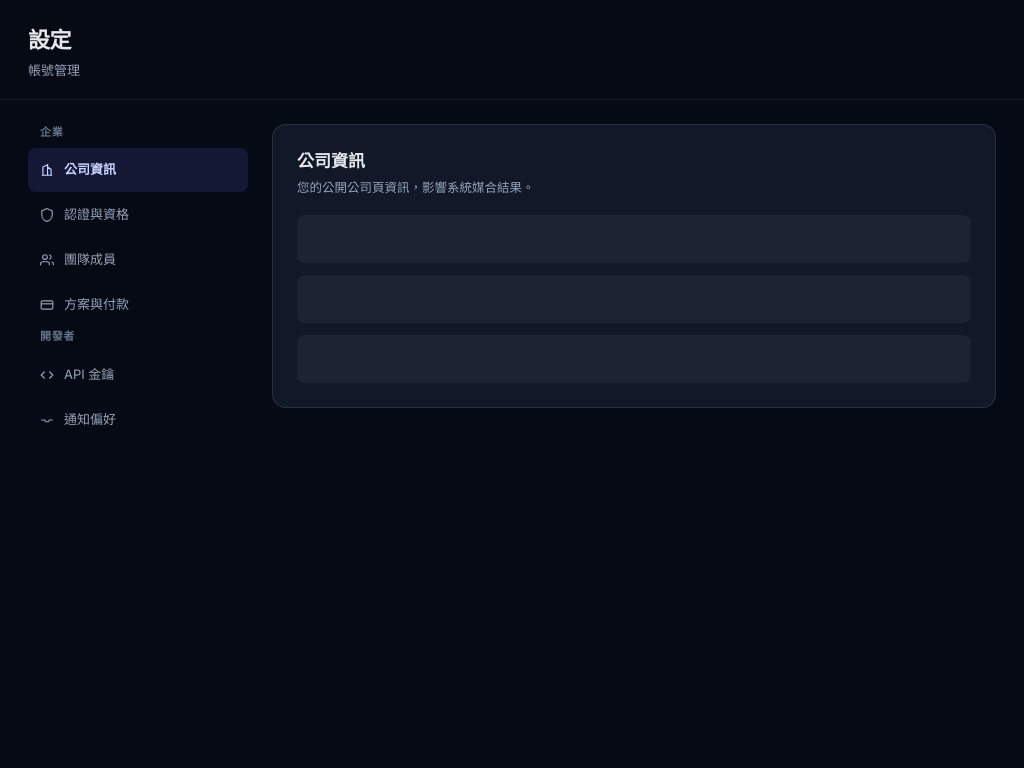
Test: Settings — isBinding loading state › clicking bind button shows 綁定中… and disables the button until the promise settles
// Navigate to 認證與資格 section
Step 1. Click the button "認證與資格" → [138, 215], box top-left (28, 193), bottom-right (248, 237)
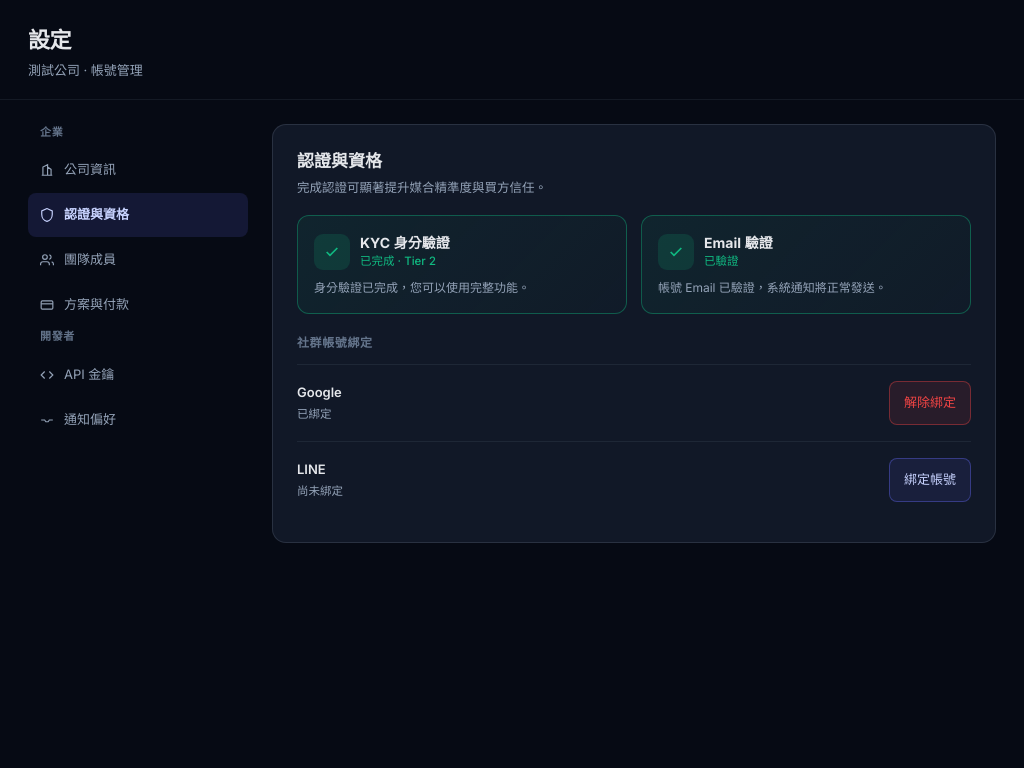
// Click the first bind button for LINE
Step 2. Click the button with aria-label "綁定 LINE" → [930, 480], box top-left (889, 458), bottom-right (971, 502)
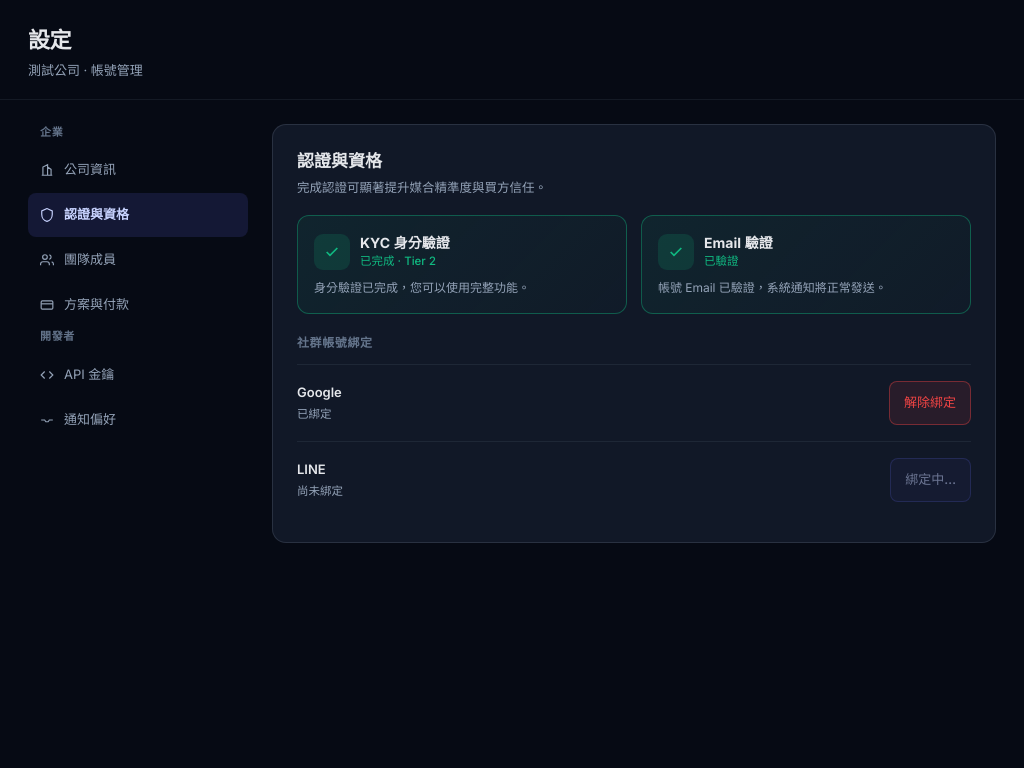
Check: the button "綁定中…" is disabled, box top-left (890, 458), bottom-right (971, 502)
